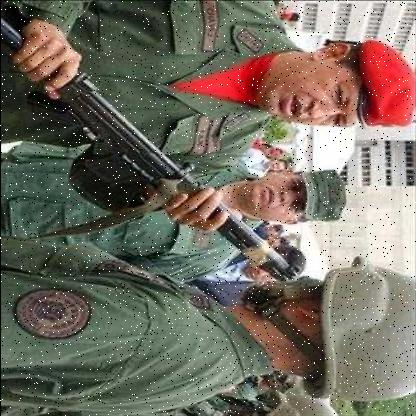rifle: (1, 9, 321, 286)
